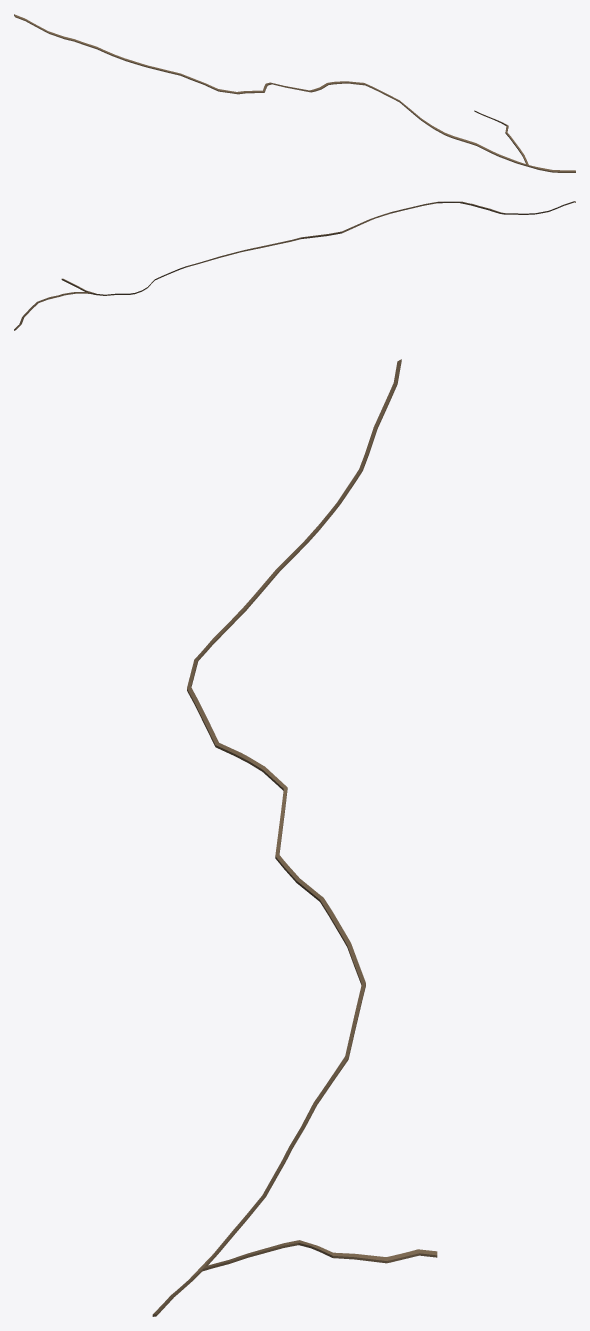
3 renders of one model, top to bottom at view 1: azimuth 30°, elevation 25°; view 2: azimuth 150°, elevation 25°; view 3: azimuth 270°, elevation 25°, orthographic. The views are drawn at different scales.
Size of the model in its own units: 326 by 146 by 80.33.
